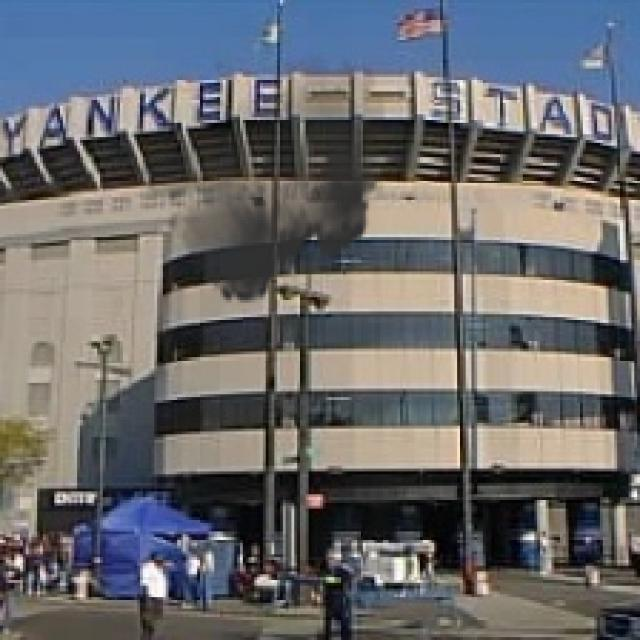smoke: (132, 46, 392, 314)
